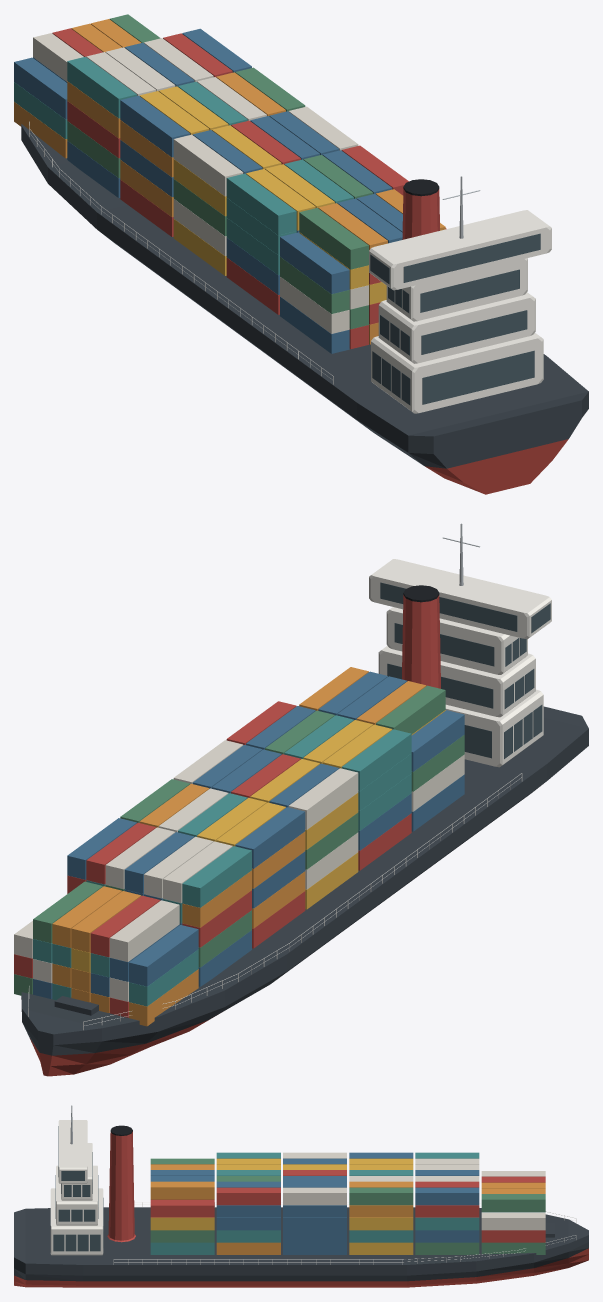
The model's file is BOAT_06.obj.
3 views of the same model, one above another, from view 1: azimuth 30°, elevation 25°; view 2: azimuth 150°, elevation 25°; view 3: azimuth 270°, elevation 25° (orthographic). The views are drawn at different scales.
Visible parts, largest first — view 1: hull_upper, containers_bay0, containers_bay1, containers_bay2, containers_bay3, containers_bay4, windows, containers_bay5, bridge, superstructure, deck2, hull_lower (+3 smaller); view 2: hull_upper, containers_bay5, containers_bay4, containers_bay1, containers_bay3, containers_bay2, containers_bay0, windows, bridge, funnel, deck2, deck3 (+3 smaller); view 3: hull_upper, containers_bay1, containers_bay3, containers_bay4, containers_bay2, containers_bay0, containers_bay5, hull_lower, funnel, windows, bridge, superstructure (+3 smaller).
Part boxes in pixels (box(x1,y1,x2,y2)): hull_upper: box(21, 124, 588, 468); containers_bay0: box(280, 189, 446, 353); containers_bay1: box(226, 145, 408, 314); containers_bay2: box(173, 106, 358, 275); containers_bay3: box(120, 67, 305, 236); containers_bay4: box(67, 28, 251, 197); windows: box(370, 233, 540, 405); containers_bay5: box(14, 14, 160, 158); bridge: box(369, 210, 551, 290); superstructure: box(371, 333, 543, 413); deck2: box(378, 292, 535, 363); hull_lower: box(425, 439, 568, 494); hull_upper: box(21, 706, 588, 1055); containers_bay5: box(14, 881, 198, 1026); containers_bay4: box(67, 818, 251, 986); containers_bay1: box(226, 701, 411, 870); containers_bay3: box(120, 779, 305, 948); containers_bay2: box(173, 740, 358, 909); containers_bay0: box(299, 667, 464, 831); windows: box(380, 582, 550, 758); bridge: box(369, 559, 551, 639); funnel: box(402, 585, 440, 688); deck2: box(378, 646, 535, 717); deck3: box(386, 607, 527, 674); hull_upper: box(14, 1207, 588, 1281); containers_bay1: box(216, 1152, 280, 1254); containers_bay3: box(349, 1152, 413, 1254); containers_bay4: box(415, 1152, 479, 1254); containers_bay2: box(283, 1152, 346, 1254); containers_bay0: box(150, 1158, 214, 1254); containers_bay5: box(481, 1171, 545, 1254); hull_lower: box(14, 1248, 588, 1287); funnel: box(107, 1125, 135, 1242); windows: box(53, 1126, 103, 1251); bridge: box(58, 1120, 87, 1183); superstructure: box(50, 1188, 103, 1255).
Size of the model in its own units: 26 by 36.47 by 109.
